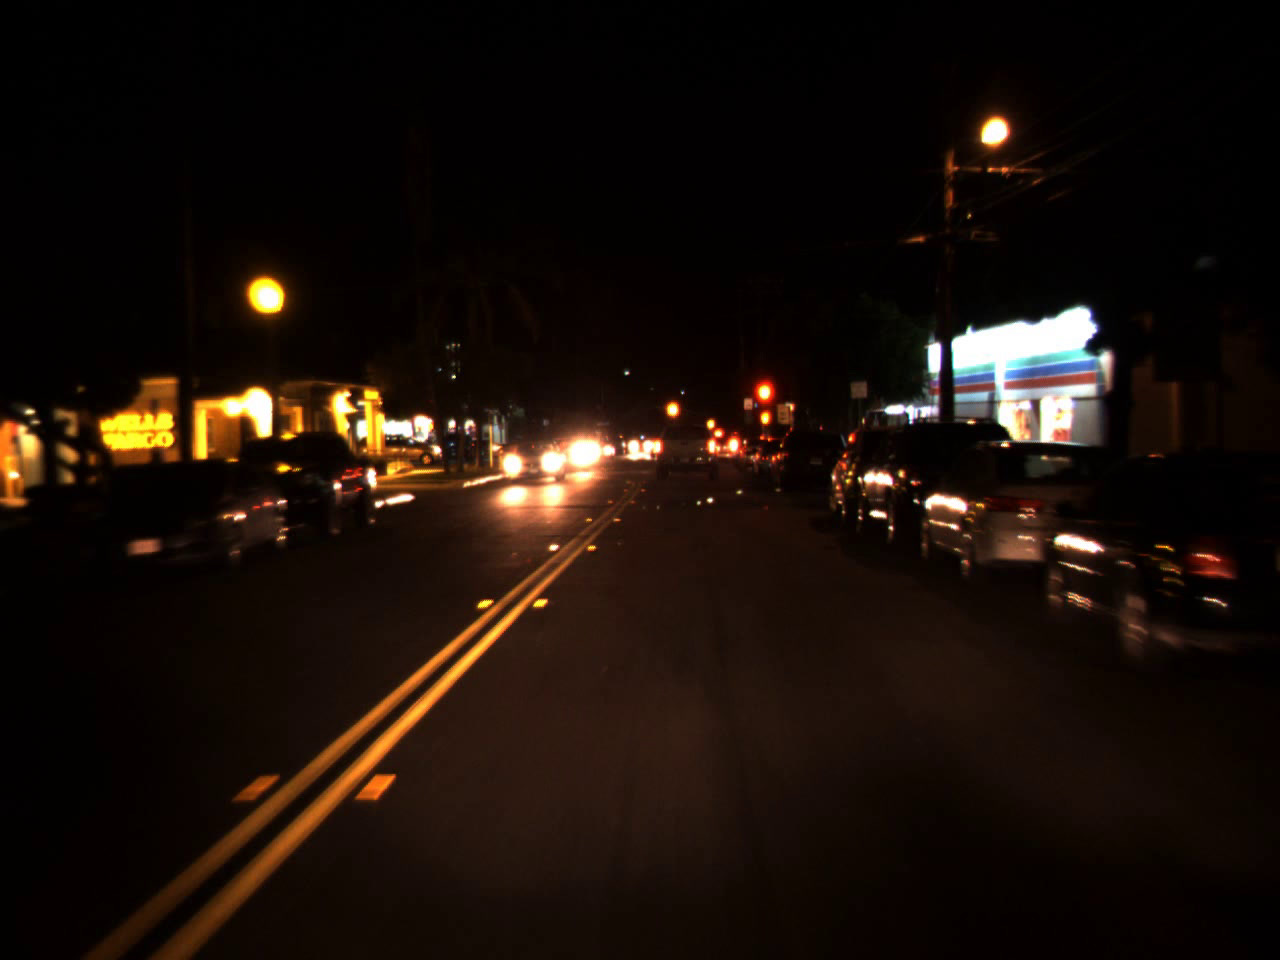stop: (750, 376, 778, 435)
warning: (664, 389, 682, 429), (705, 415, 715, 430)
